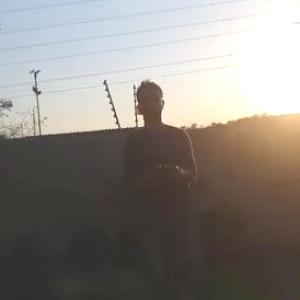follow: (122, 74, 202, 299)
